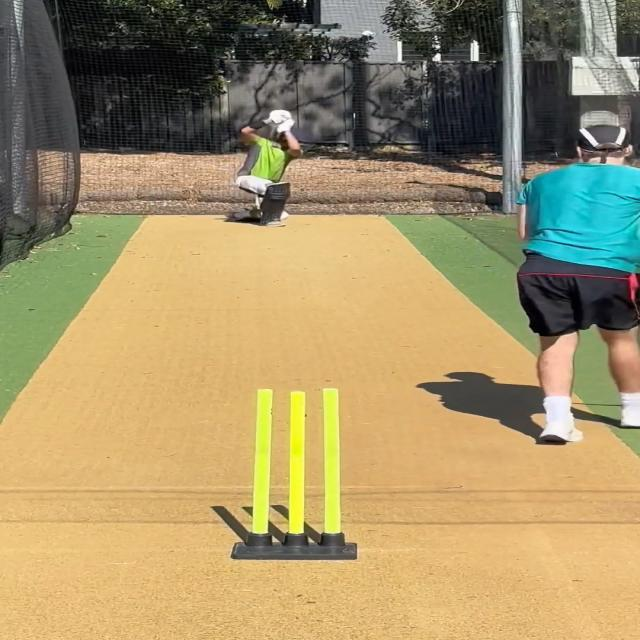stump: (230, 387, 358, 564)
